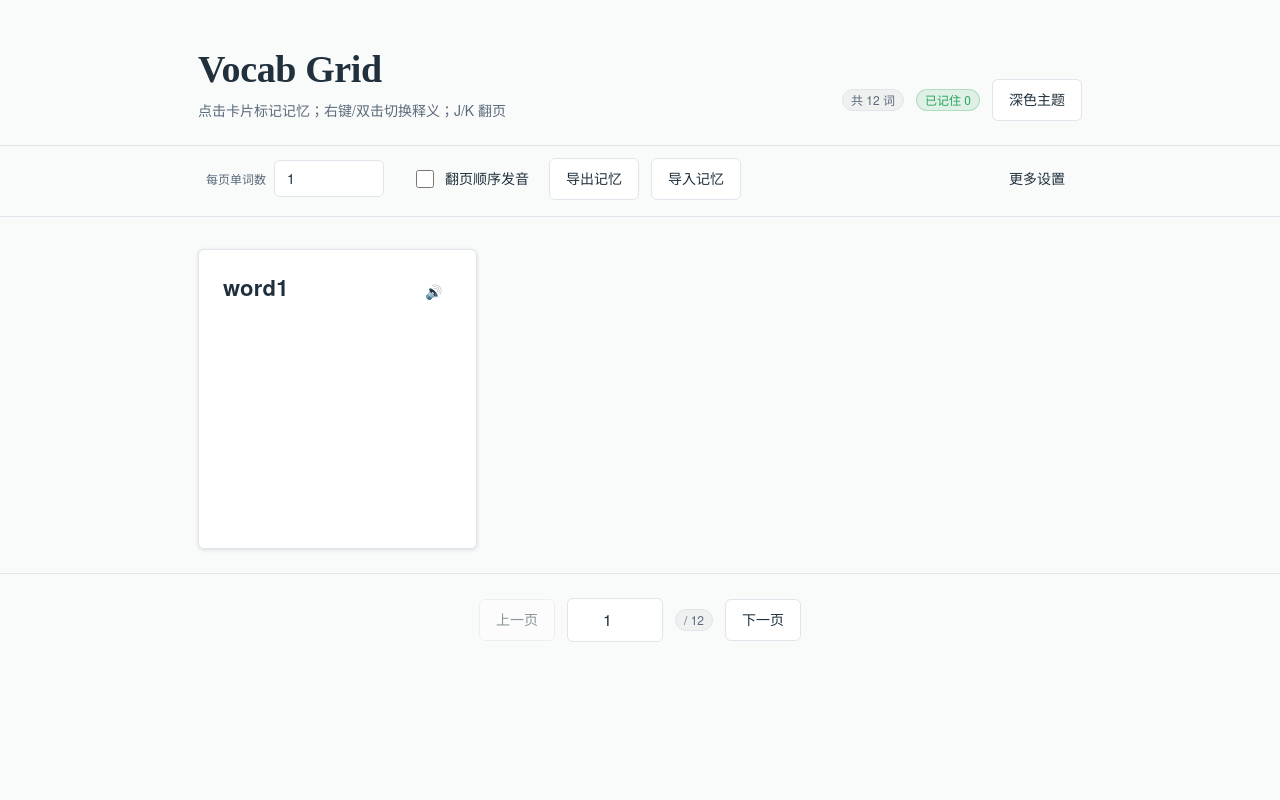
Test: App UI logic › shows definition on right click (context menu)
Expected: the text "word1" is shown, [223,271,289,303]
Expected: the text "def1" is not shown
Step 1. Right-click the text "word1" → (337, 399), box [198,249,477,549]
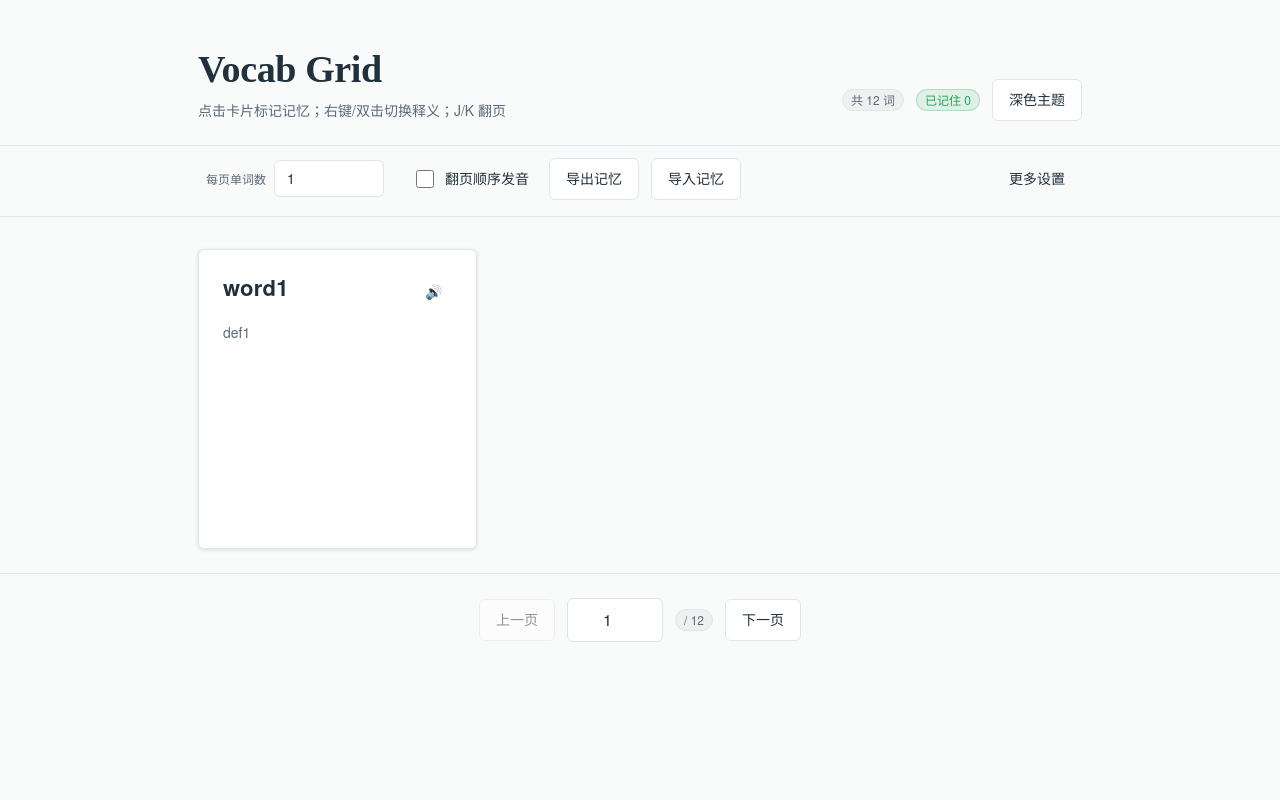
Result: the text "def1" is shown at [223,322,250,342]
